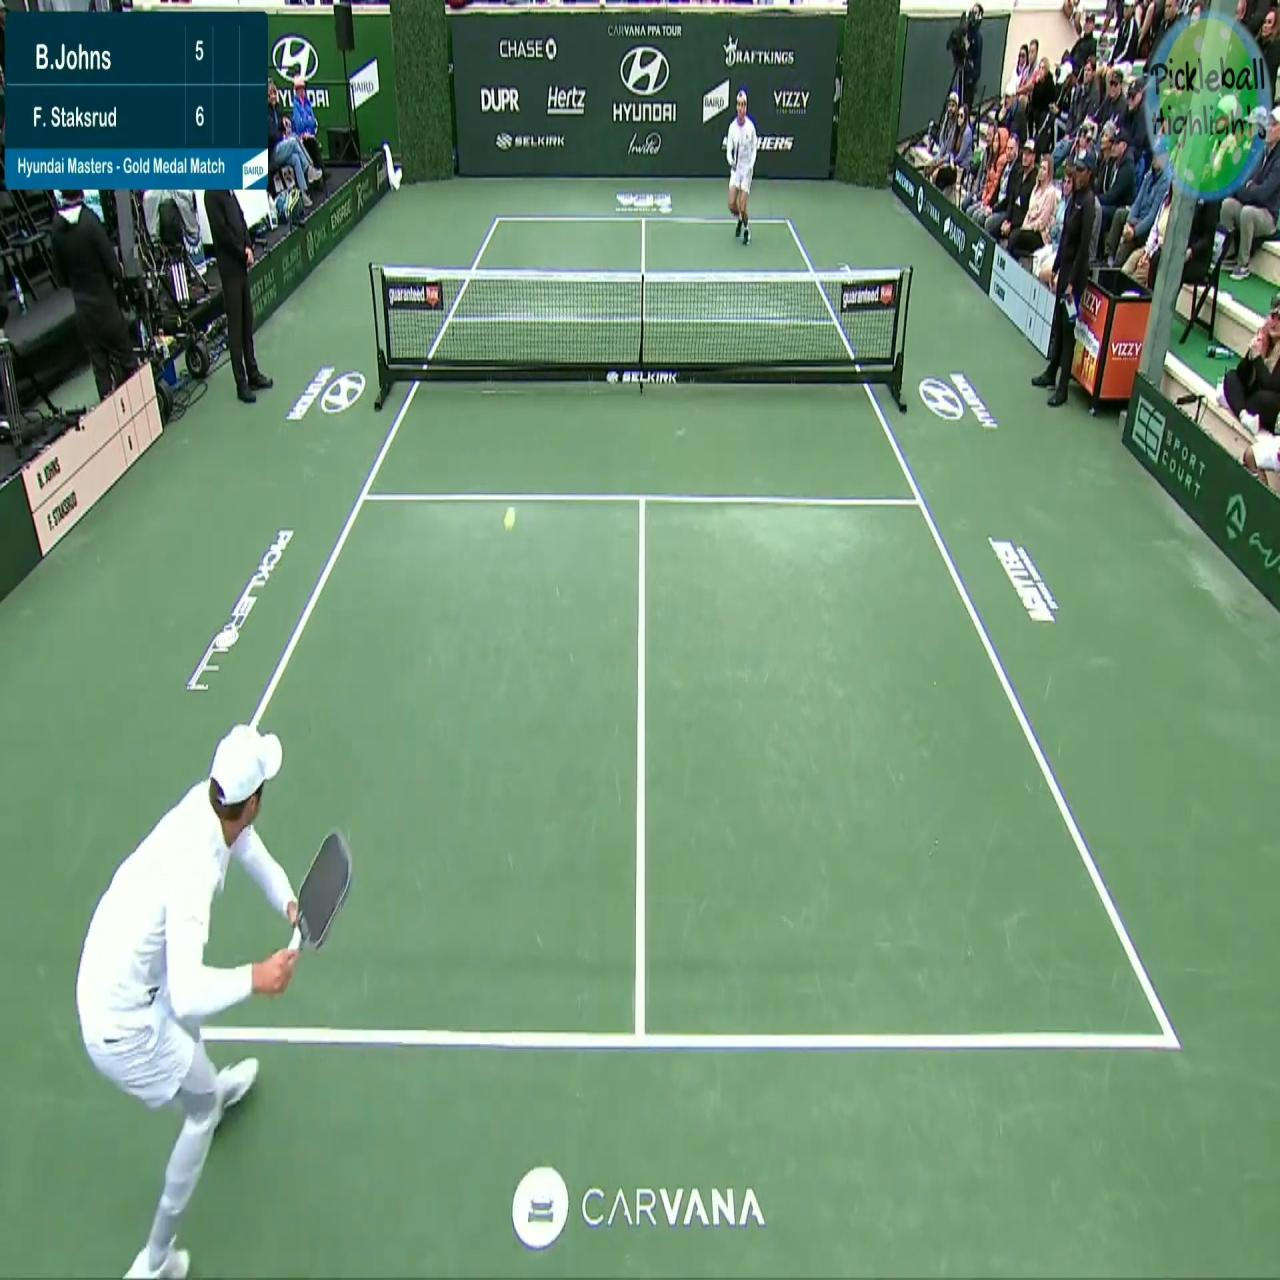pickleball: (503, 506, 516, 531)
